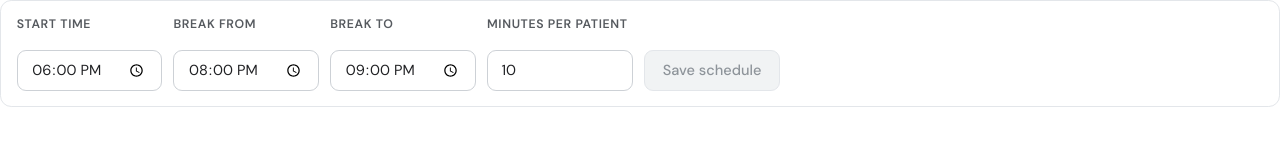
OpdScheduleBar › ⚕️ a save clears only what it sent: words typed while it is on its way stay
The width and height of the screenshot is (1280, 160).
Step 1. Replace the text in the number field labelled "Minutes per patient" with "12" → (560, 70), box [487,50,633,91]
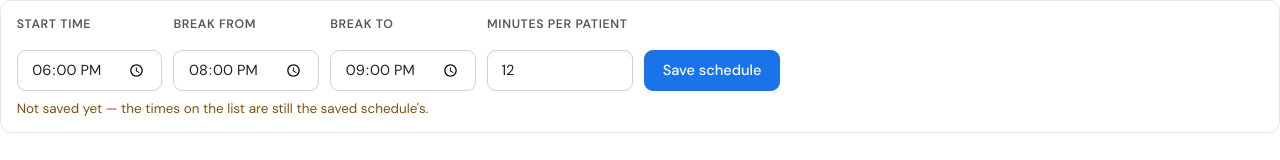
Step 2. Click the button "Save schedule" → (712, 70), box [644,50,780,91]
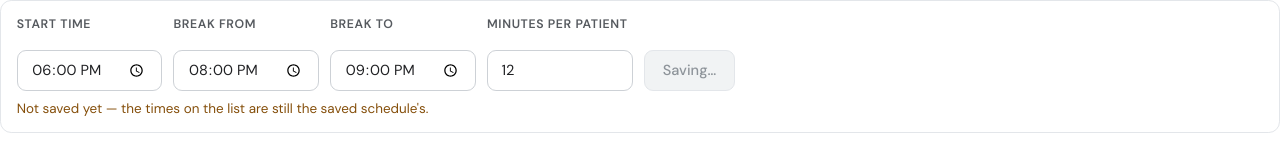
Step 3. Replace the text in the time field labelled "Start time" with "17:30" → (90, 70), box [17,50,162,91]
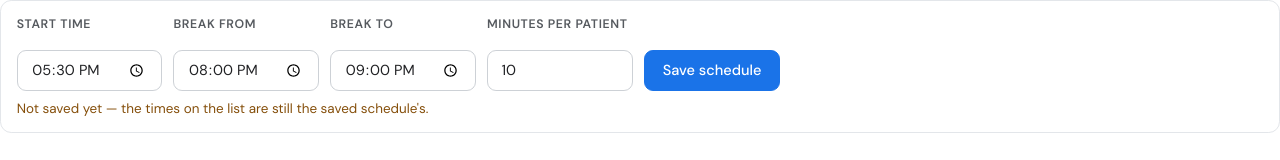
expect the button "Save schedule" is enabled: met, box [644,50,780,91]
